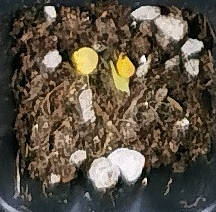pepper seed: (49, 13, 185, 91), (24, 9, 123, 84)
